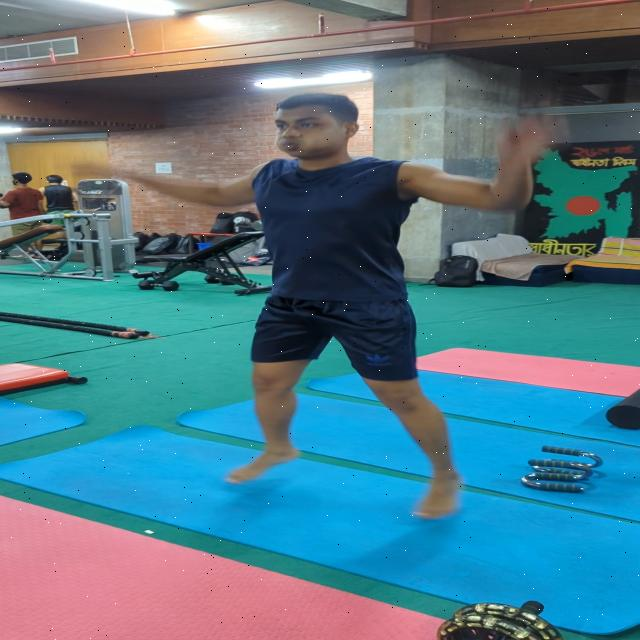Normal_JumpingJacks: (73, 66, 537, 544)
